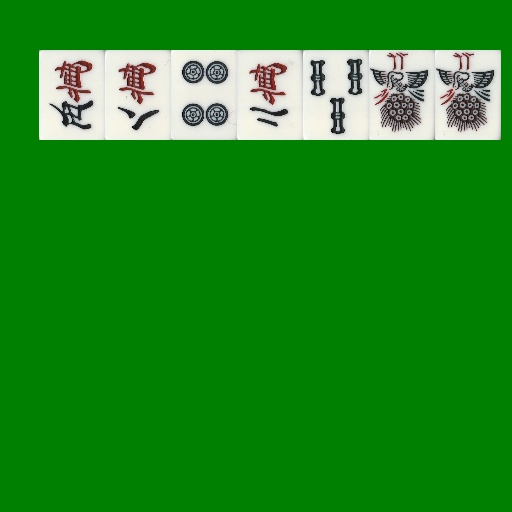1s: (369, 50, 435, 140), (435, 50, 501, 140)
2m: (237, 50, 303, 140)
3s: (303, 50, 369, 140)
4p: (171, 50, 237, 140)
5m: (39, 50, 105, 140)
8m: (105, 50, 171, 140)
